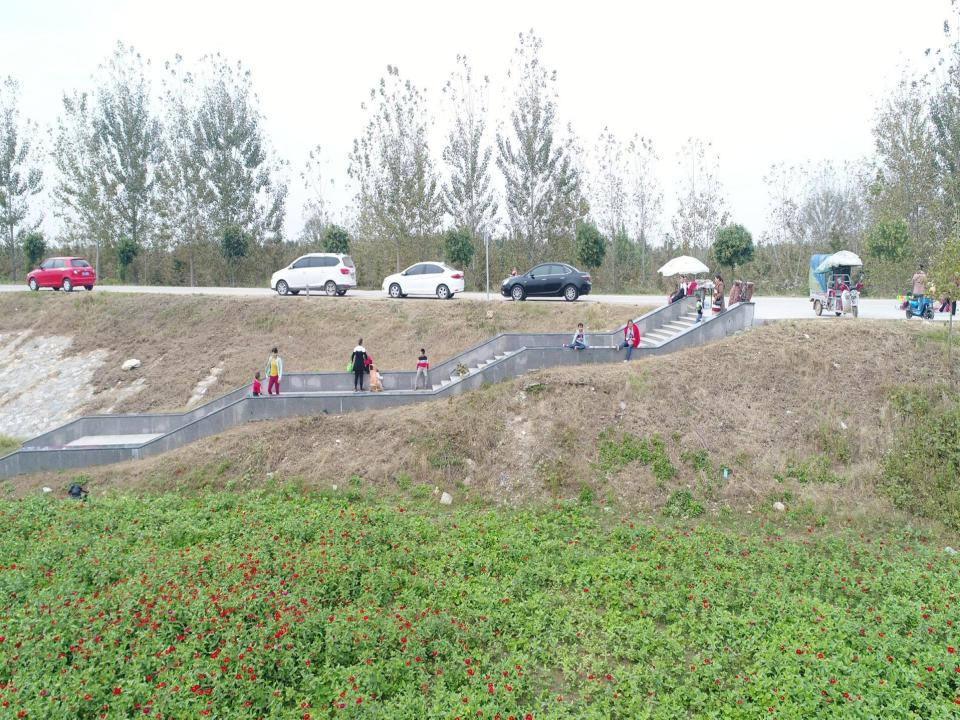car: (269, 252, 356, 296), (501, 262, 593, 300), (382, 261, 464, 299), (25, 257, 95, 291)
